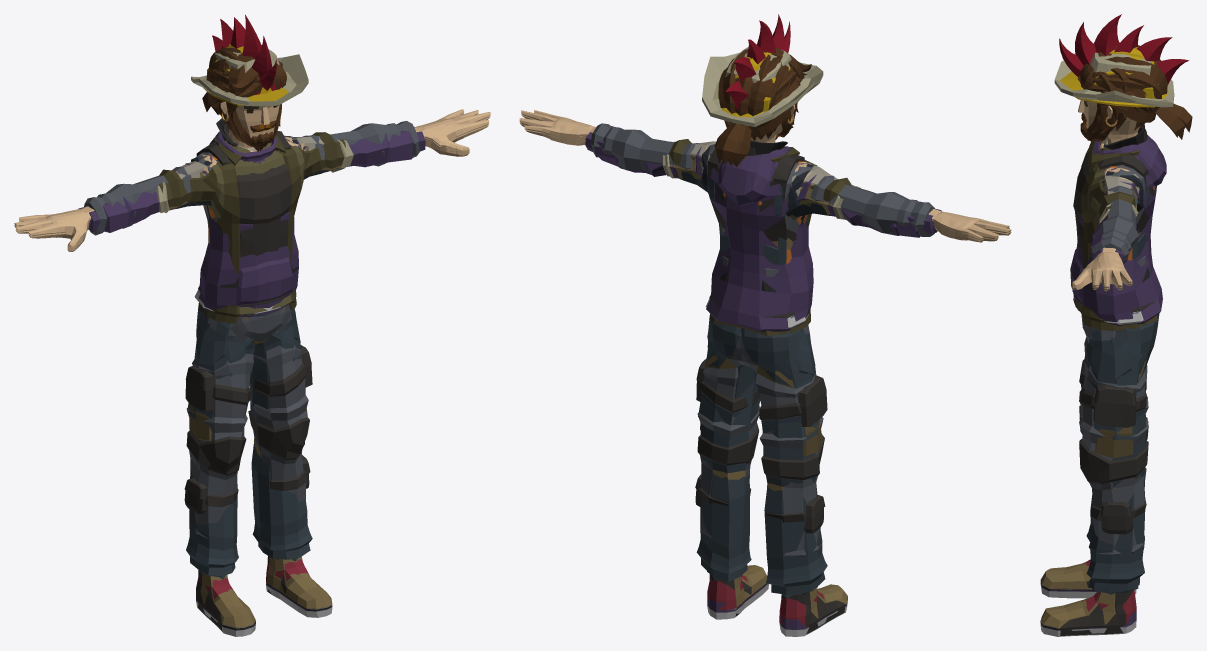
Rendered from NPC all parts M.fbx.
3 renders of one model, left to right at view 1: azimuth 30°, elevation 25°; view 2: azimuth 150°, elevation 25°; view 3: azimuth 270°, elevation 25°, orthographic. The views are drawn at different scales.
Parts seen in each view (by area): view 1: Swat_Legs, Adventurer_Body.001, Casual_Body.001, Farmer_Pants.001, Swat_Body, Farmer_Feet.001, Adventurer_Head.001, Casual_Legs.001, Farmer_Head.001, Punk_Head, Suit_Head, Casual2_Body.001 (+4 smaller); view 2: Casual_Body.001, Farmer_Pants.001, Swat_Legs, Swat_Body, Casual_Legs.001, Adventurer_Body.001, Farmer_Head.001, Adventurer_Head.001, Punk_Head, Casual2_Head.001, Farmer_Body.001, Suit_Body (+8 smaller); view 3: Swat_Legs, Casual_Body.001, Farmer_Pants.001, Adventurer_Body.001, Swat_Body, Adventurer_Head.001, Punk_Head, Casual_Legs.001, Farmer_Feet.001, Farmer_Head.001, Casual2_Head.001, Swat_Feet (+11 smaller).
Boxes of the visible parts, x1,y1,x2,y2 form: Swat_Legs: (184, 304, 312, 538); Adventurer_Body.001: (14, 109, 490, 323); Casual_Body.001: (14, 118, 488, 317); Farmer_Pants.001: (186, 309, 312, 576); Swat_Body: (84, 121, 419, 306); Farmer_Feet.001: (200, 556, 332, 627); Adventurer_Head.001: (206, 46, 286, 151); Casual_Legs.001: (187, 307, 301, 420); Farmer_Head.001: (191, 47, 308, 106); Punk_Head: (212, 14, 276, 134); Suit_Head: (210, 53, 286, 124); Casual2_Body.001: (74, 125, 433, 223); Casual_Body.001: (521, 116, 1011, 332); Farmer_Pants.001: (696, 325, 827, 594); Swat_Legs: (695, 325, 827, 556); Swat_Body: (590, 123, 934, 317); Casual_Legs.001: (698, 314, 819, 442); Adventurer_Body.001: (519, 110, 1011, 335); Farmer_Head.001: (702, 47, 823, 126); Adventurer_Head.001: (718, 54, 804, 142); Punk_Head: (725, 14, 793, 123); Casual2_Head.001: (714, 69, 798, 167); Farmer_Body.001: (662, 141, 857, 318); Suit_Body: (519, 112, 1010, 241); Swat_Legs: (1079, 314, 1148, 555); Casual_Body.001: (1070, 134, 1166, 325); Farmer_Pants.001: (1086, 327, 1150, 592); Adventurer_Body.001: (1071, 138, 1157, 330); Swat_Body: (1072, 126, 1155, 312); Adventurer_Head.001: (1078, 45, 1167, 144); Punk_Head: (1059, 14, 1189, 126); Casual_Legs.001: (1086, 314, 1159, 439); Farmer_Feet.001: (1040, 561, 1115, 627); Farmer_Head.001: (1054, 52, 1174, 107); Casual2_Head.001: (1096, 74, 1192, 144); Swat_Feet: (1060, 579, 1133, 635).
Size of the model in its own units: 169 by 198 by 45.82.
